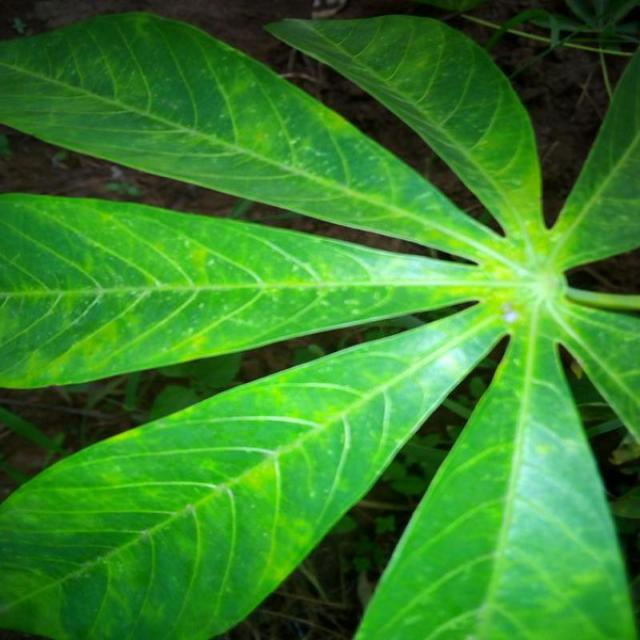cassava leaf: (0, 8, 638, 638), (0, 298, 508, 639), (0, 189, 498, 390), (350, 318, 637, 639)
